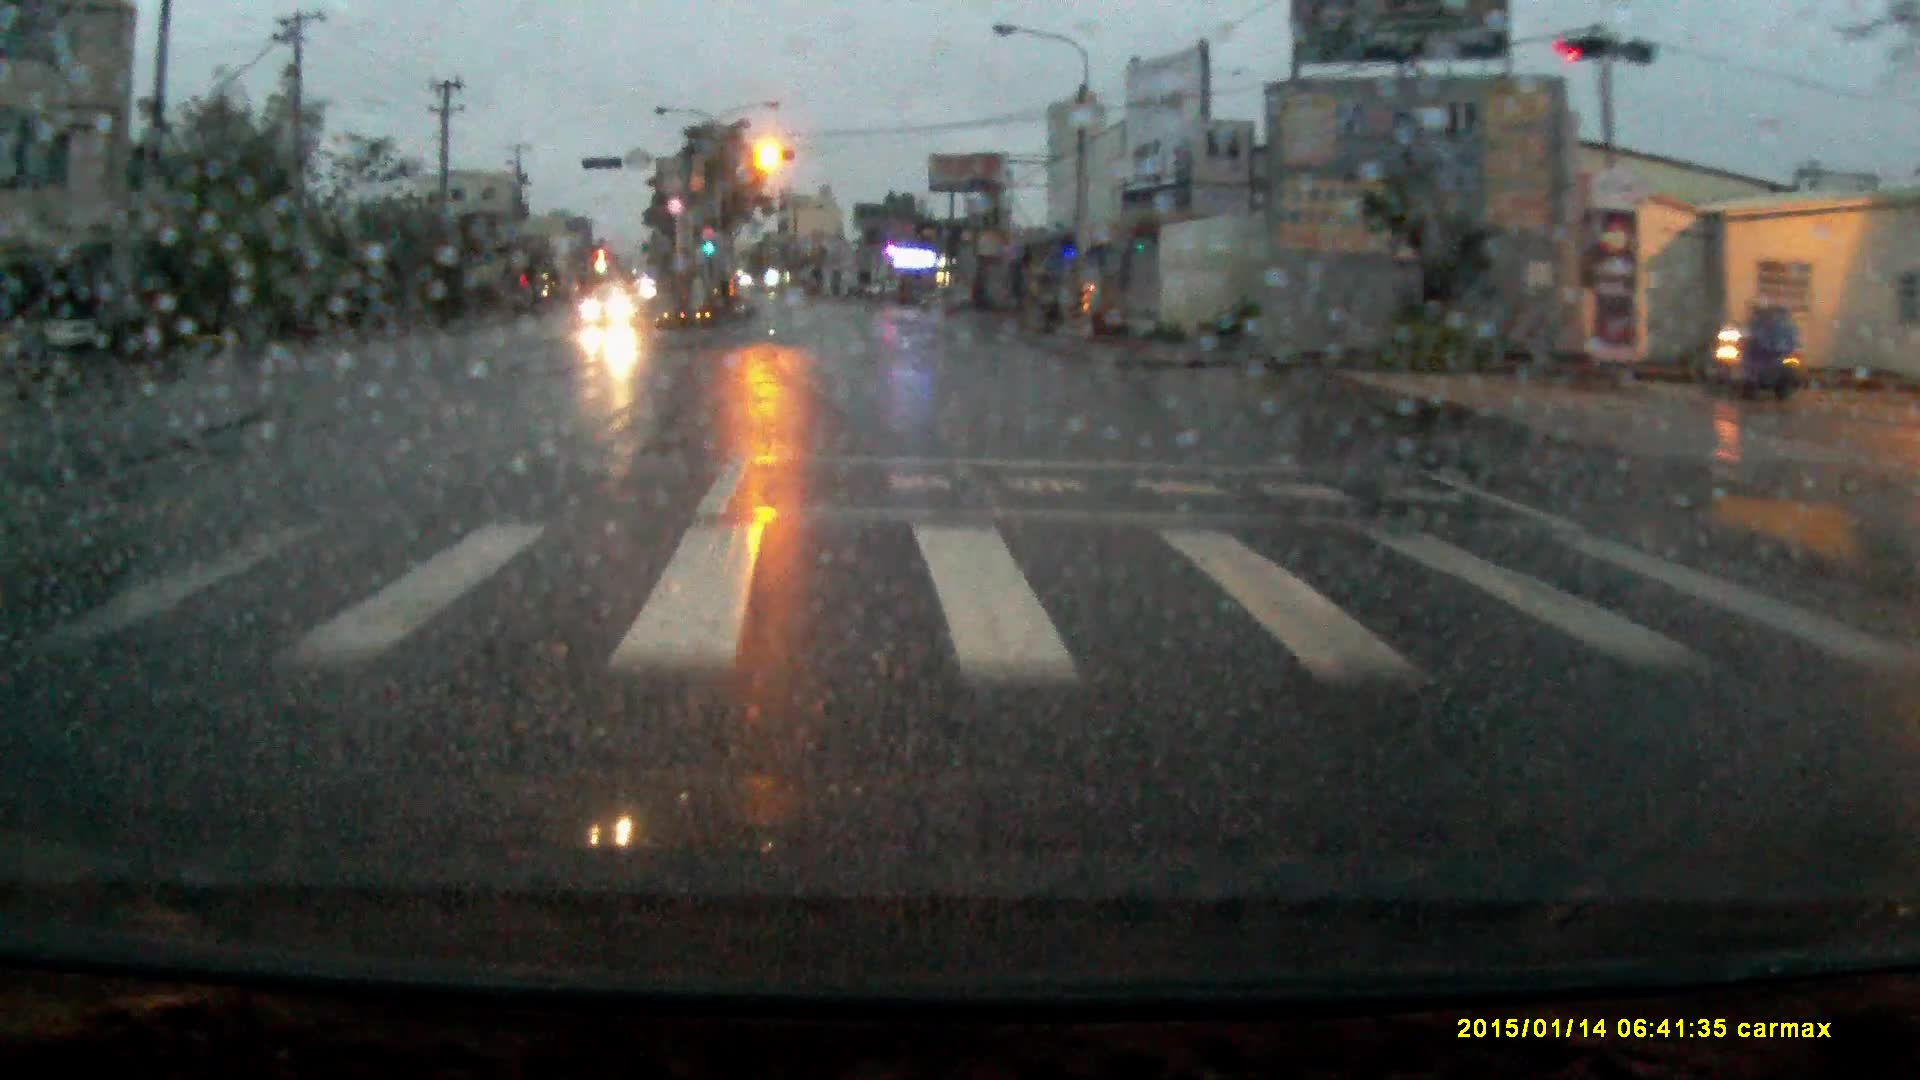rider: (1709, 294, 1801, 409)
vehicle: (581, 292, 642, 335)
